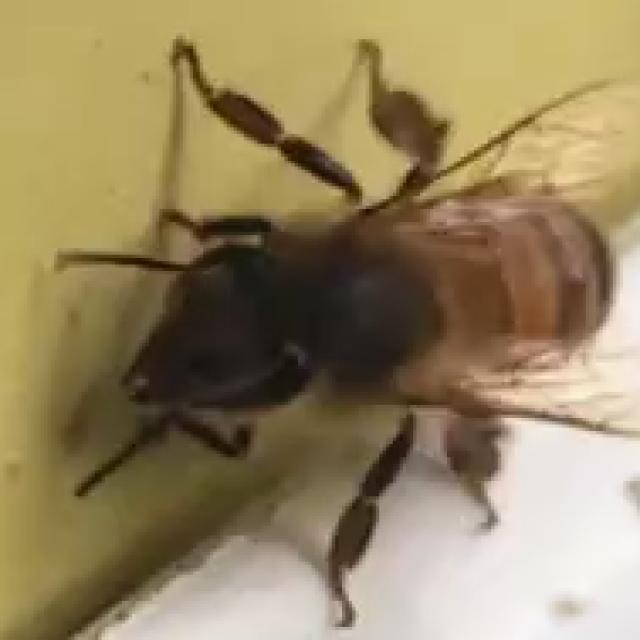honeybee: (52, 44, 586, 609)
